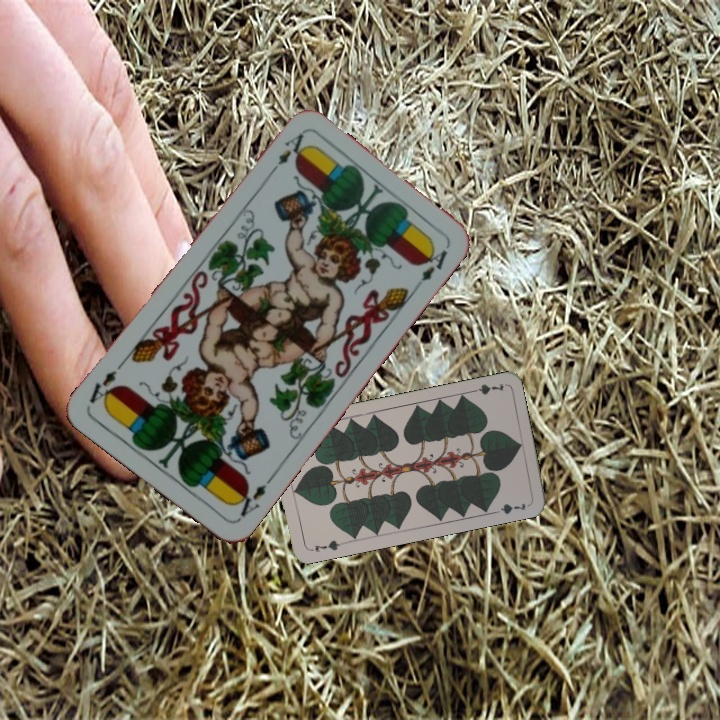EA: (229, 472, 276, 522), (264, 129, 307, 179)
G7: (466, 379, 506, 397), (310, 536, 346, 554)
